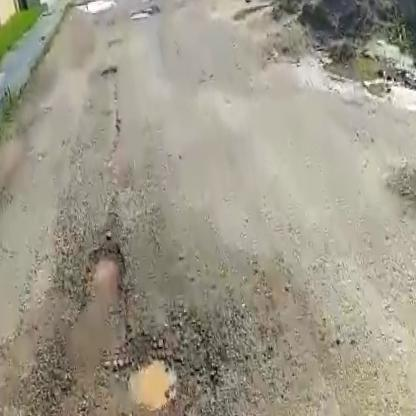pothole: (122, 352, 182, 414), (80, 244, 131, 310), (70, 0, 117, 17)
